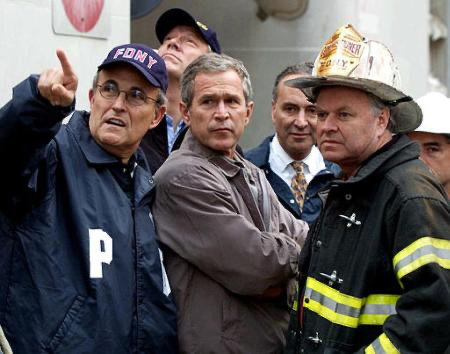Face: (92, 65, 158, 149), (187, 80, 250, 151), (316, 92, 368, 168), (271, 92, 323, 155), (411, 133, 450, 189), (156, 26, 203, 72)
